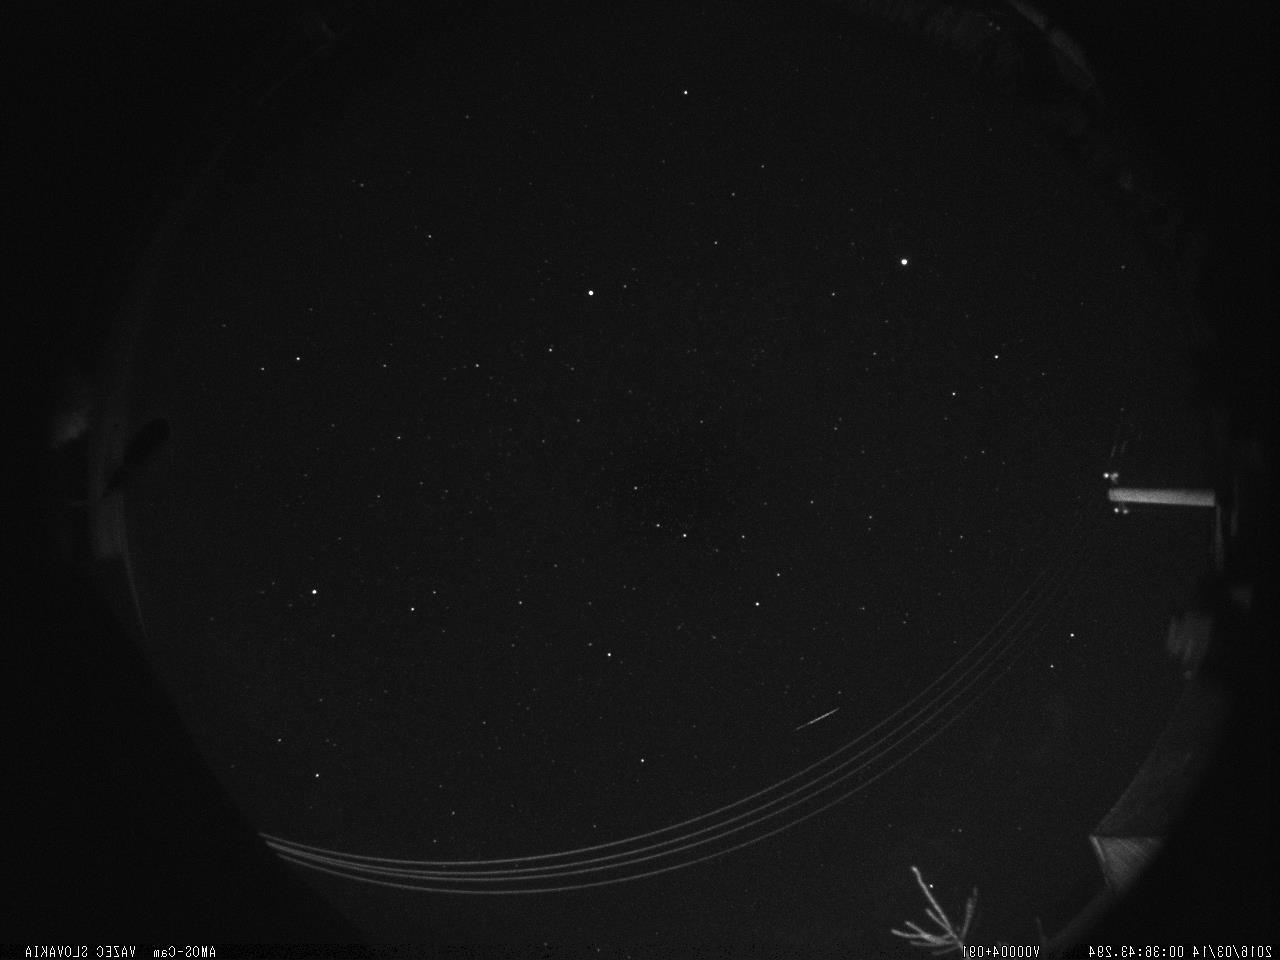meteor: (785, 693, 847, 735)
